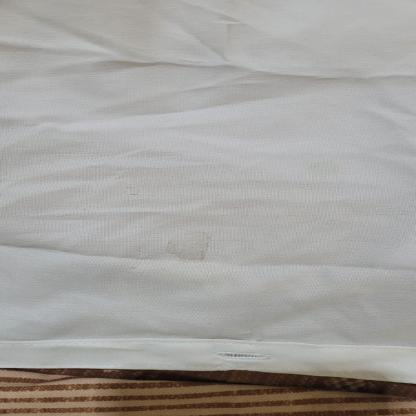spot: (164, 230, 216, 264)
